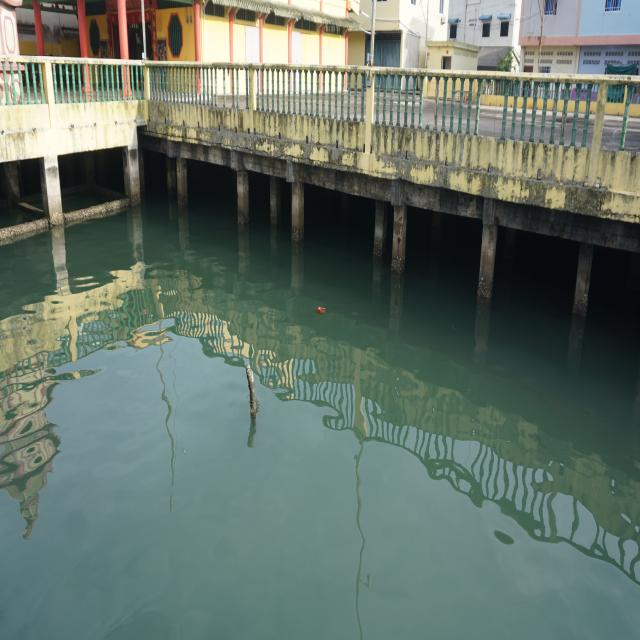Kantong Plastik: (315, 306, 328, 317)
